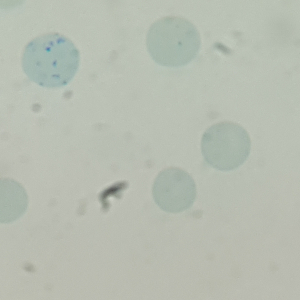aggregate reticulocyte: (20, 31, 82, 89)
erythrocyte: (199, 121, 253, 173), (151, 165, 199, 214)
punctate reticulocyte: (145, 14, 202, 69)
